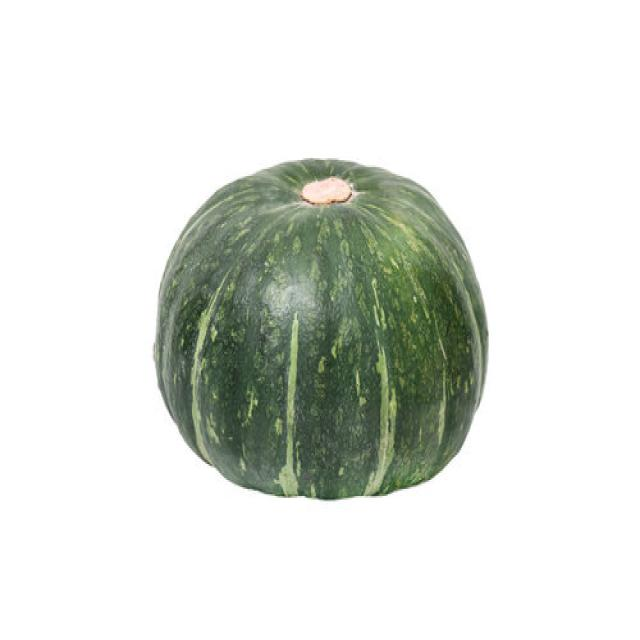Pumpkin: (152, 155, 489, 500)
